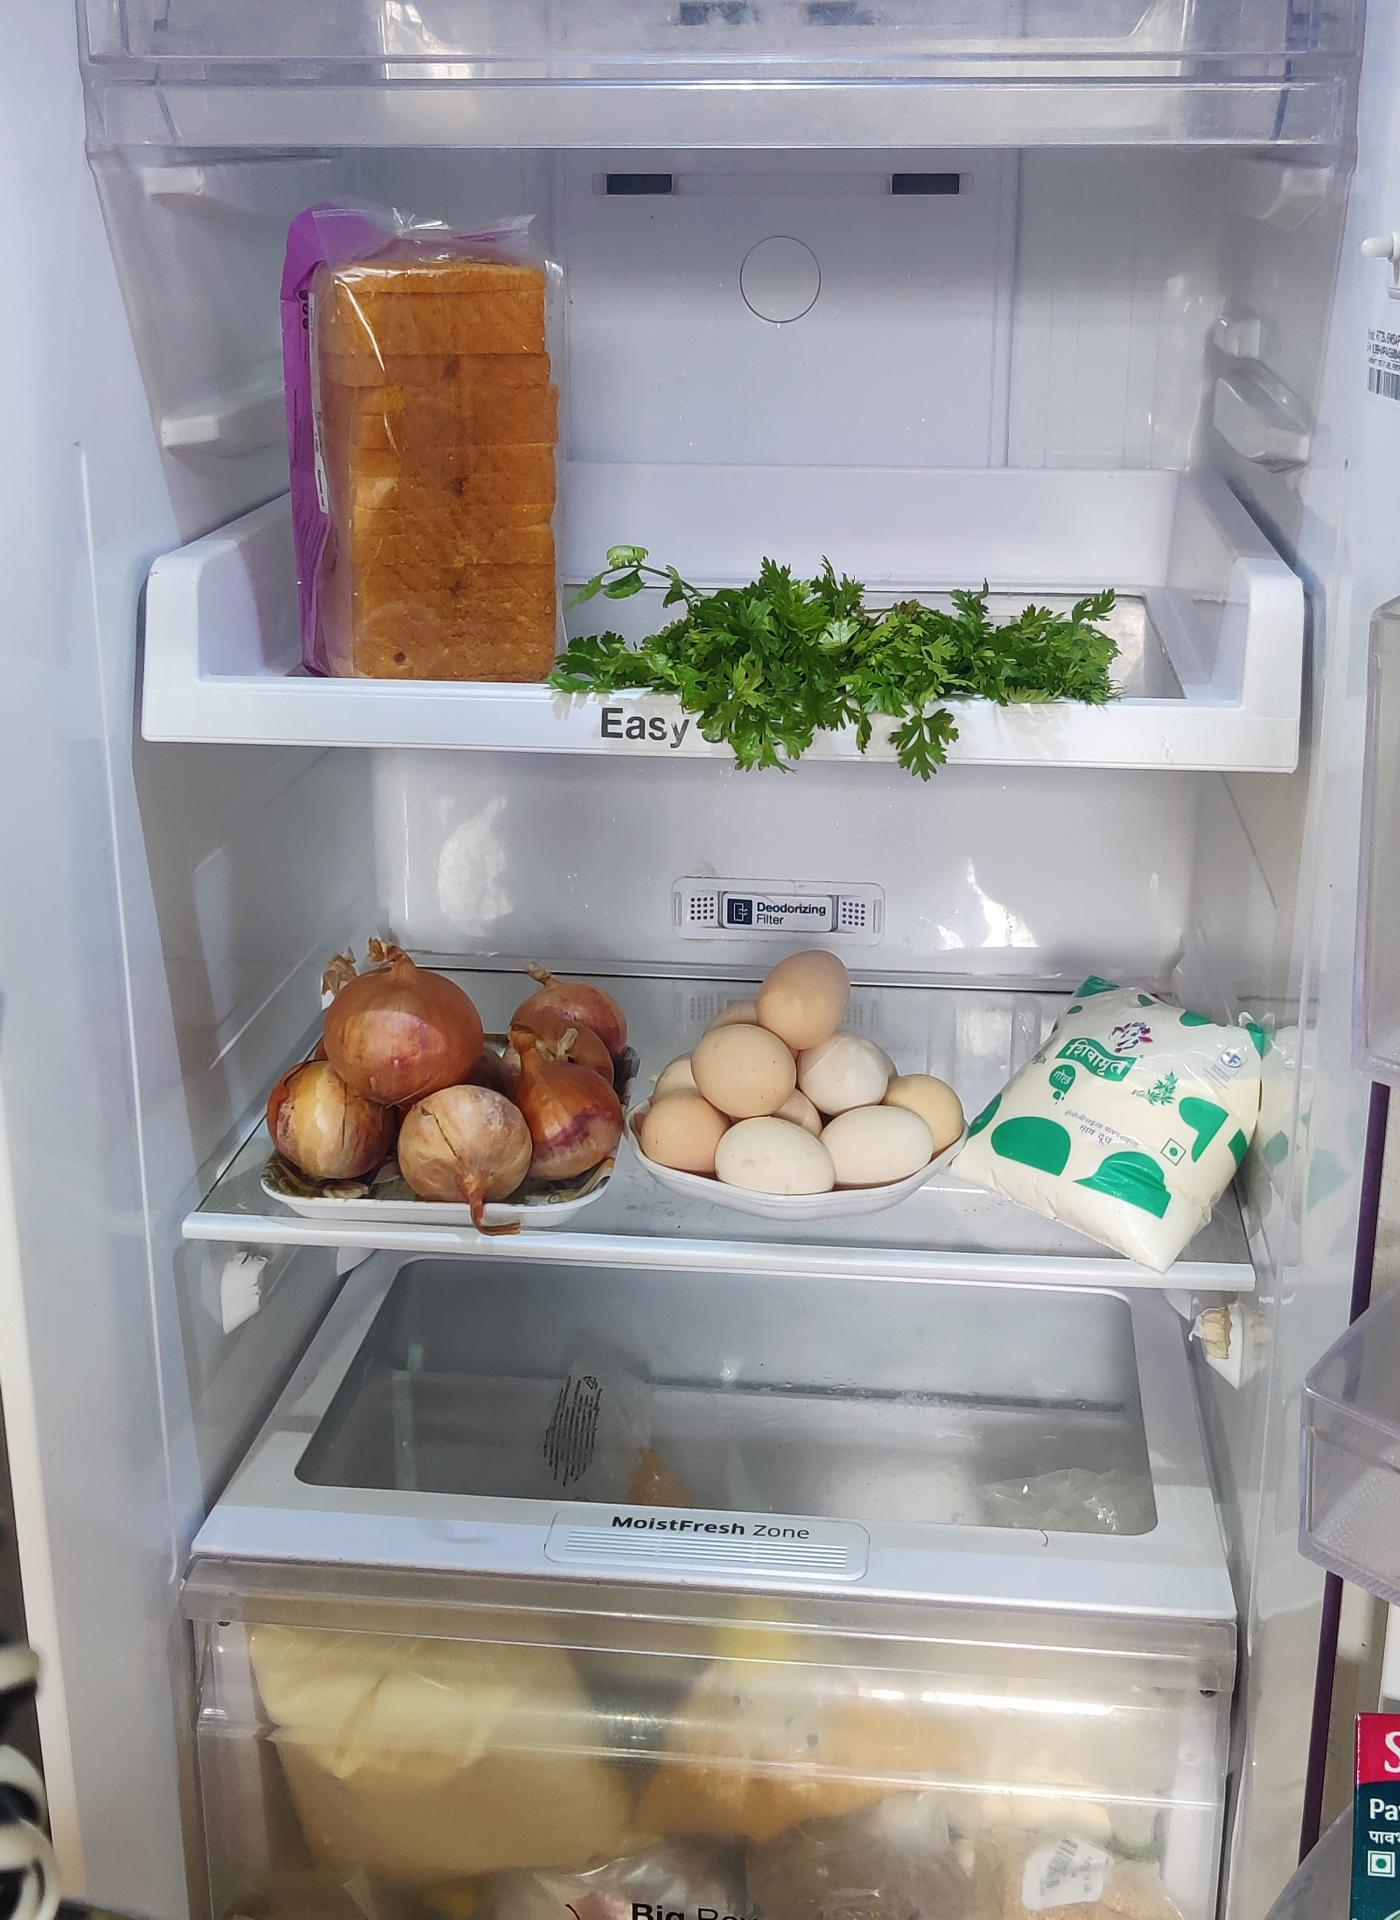bread: (282, 201, 574, 680)
coriander: (564, 558, 1127, 735)
egg: (637, 966, 956, 1209)
milk: (965, 981, 1270, 1261)
onion: (270, 930, 637, 1203)
